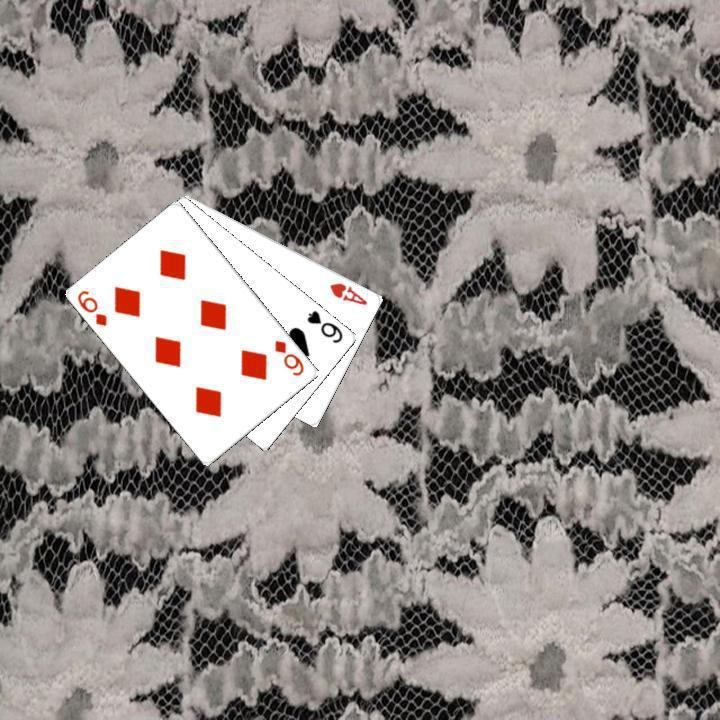6: (303, 306, 345, 345), (73, 286, 110, 328), (270, 336, 306, 378)
A: (325, 278, 370, 307)
